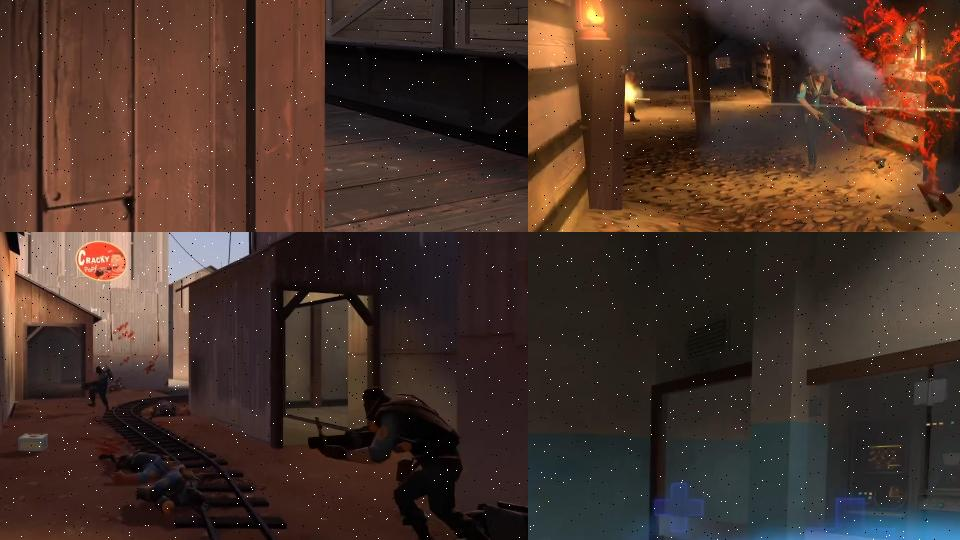Enemy: (306, 385, 528, 540), (796, 63, 875, 172), (83, 364, 115, 412)
